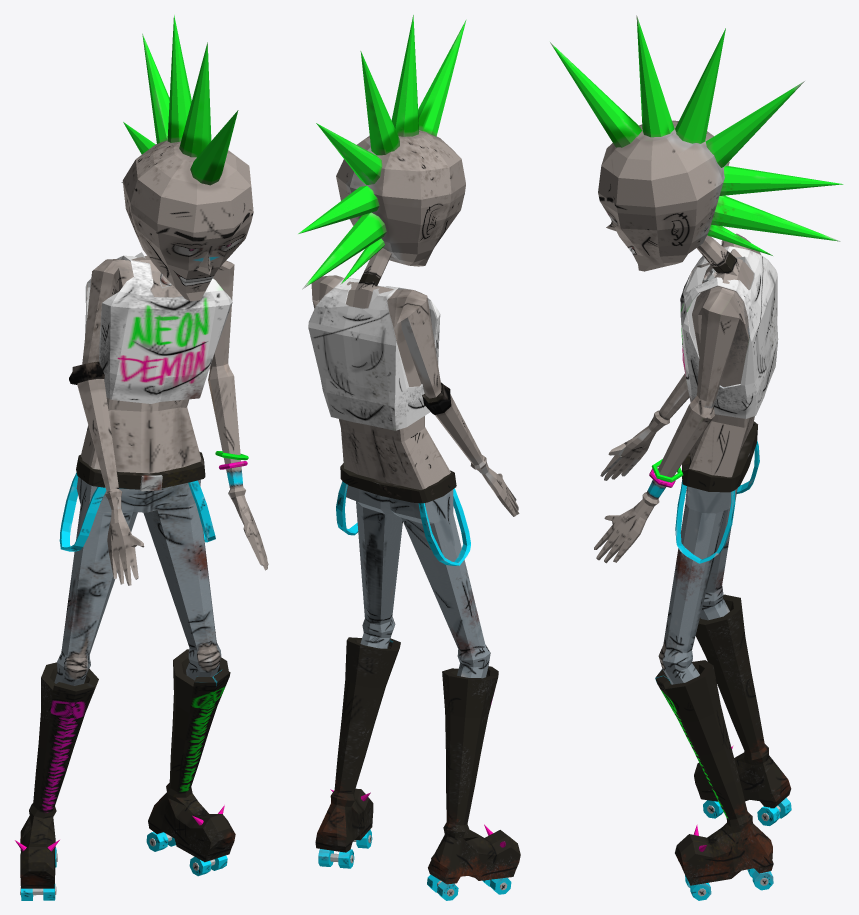
File: punkAnimation_000057.obj
3 views of the same model, side by side, from view 1: azimuth 30°, elevation 25°; view 2: azimuth 150°, elevation 25°; view 3: azimuth 270°, elevation 25° (orthographic). The views are drawn at different scales.
Parts seen in each view (by area): view 1: Cube.004_Cube.003; view 2: Cube.004_Cube.003; view 3: Cube.004_Cube.003.
Boxes of the visible parts, <box> form: Cube.004_Cube.003: <box>15,15,268,900</box>; Cube.004_Cube.003: <box>298,15,520,900</box>; Cube.004_Cube.003: <box>550,15,843,900</box>.
Bounding box in the file's own units: 1.96 × 7.48 × 2.31.
